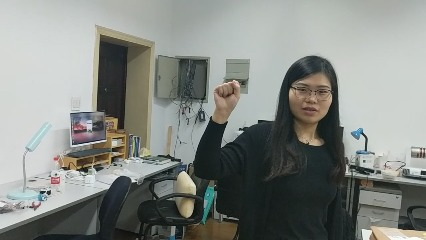fist: (211, 79, 242, 112)
